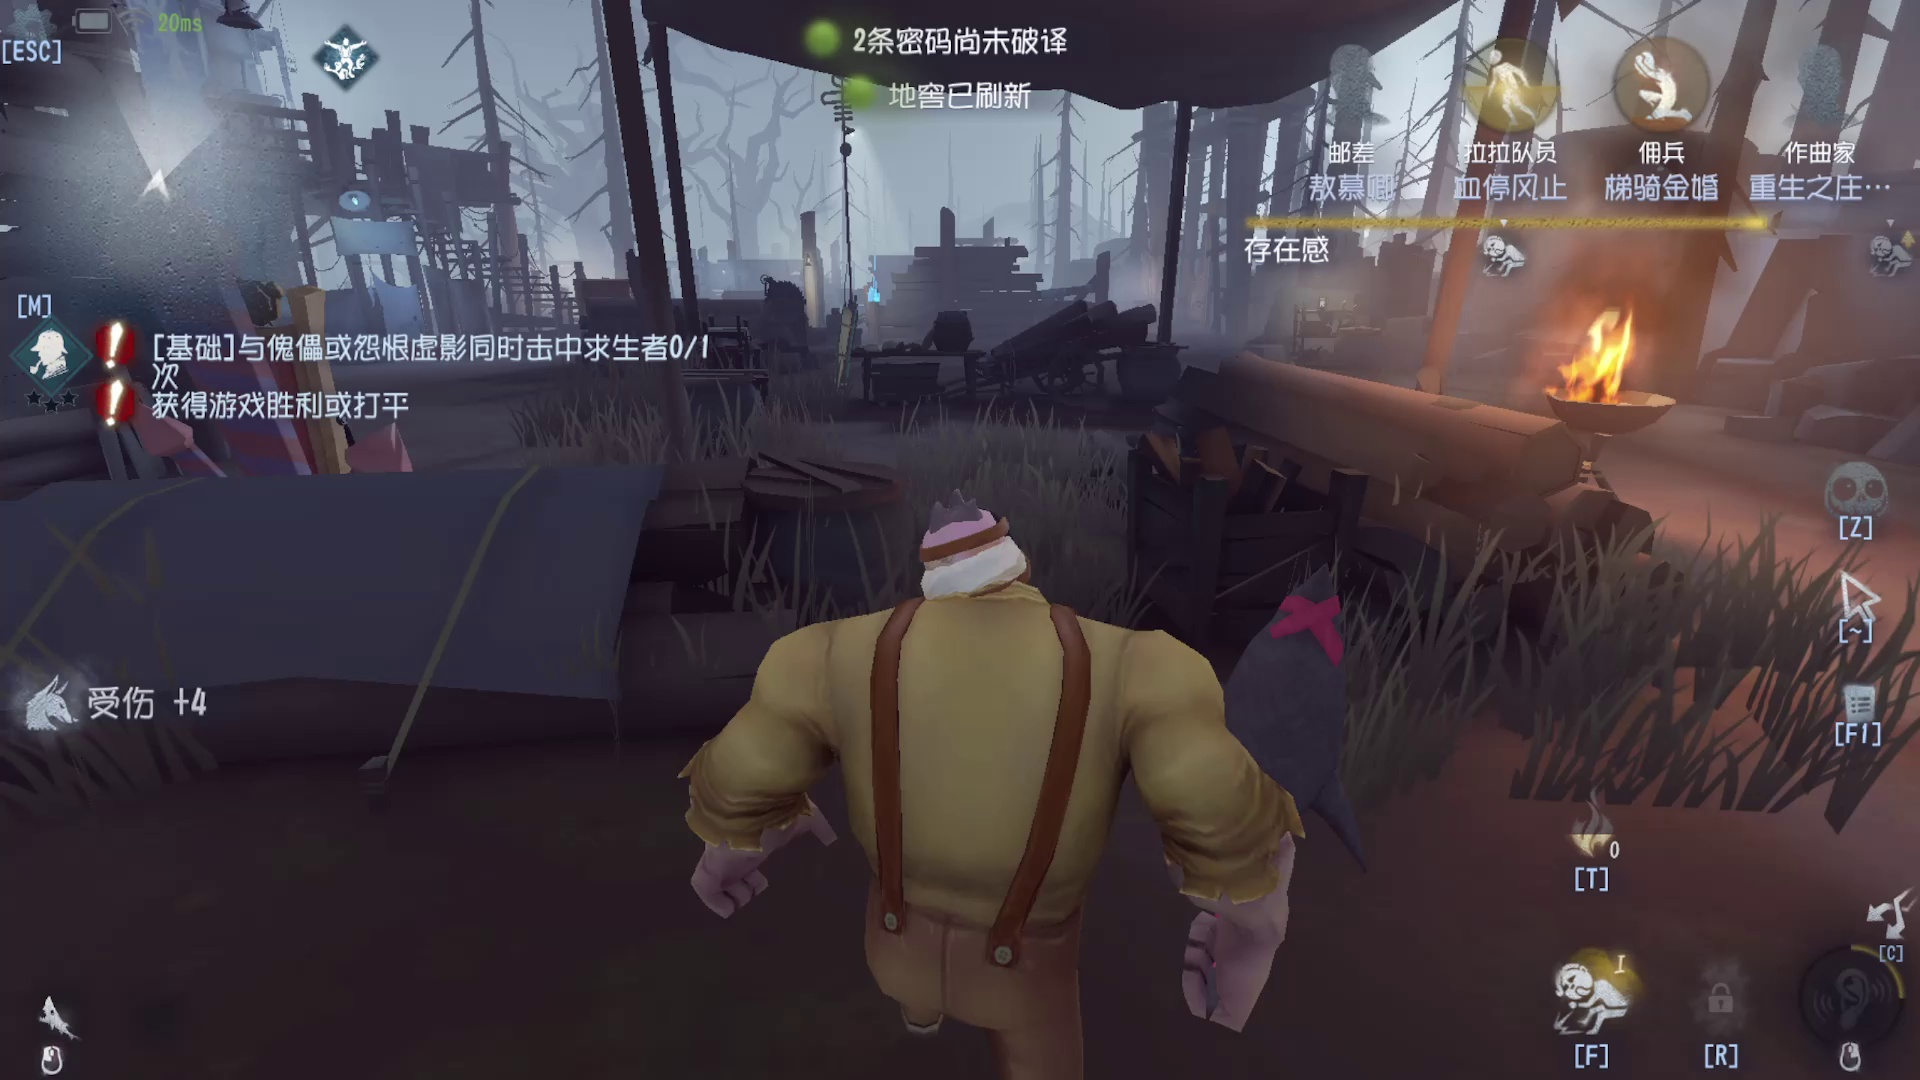密码机: (856, 204, 899, 307)
技能: (1503, 765, 1644, 936)
木板: (808, 286, 860, 411)
狂欢之椅: (102, 131, 396, 492)
